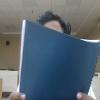notebook: (17, 19, 99, 99)
